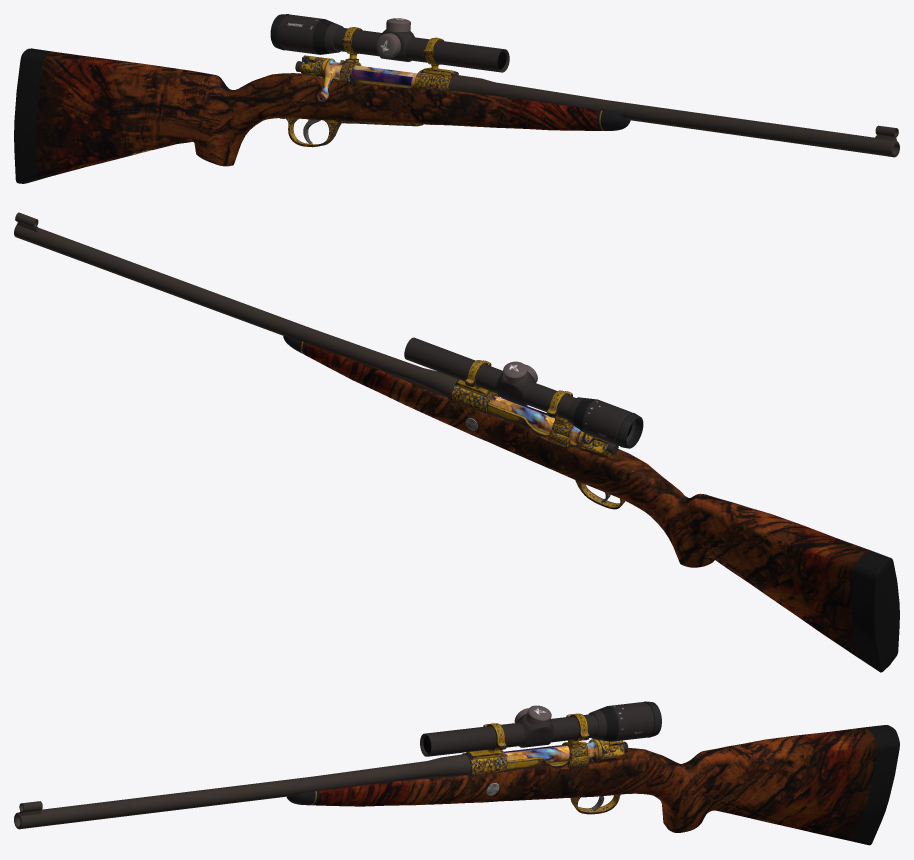
Rendered from rifle.glb.
The picture shows the model from 3 angles, top to bottom: view 1: azimuth 30°, elevation 25°; view 2: azimuth 210°, elevation 25°; view 3: azimuth 270°, elevation 25°; orthographic projection.
Visible parts, largest first — view 1: Wood_Low, Barrel_Low, Scope_Low, Midden2_Low, Midden1_Low, ScopeKnop_Low, TriggerHandle_Low; view 2: Wood_Low, Barrel_Low, Scope_Low, Midden2_Low, Midden1_Low; view 3: Wood_Low, Barrel_Low, Scope_Low, Midden2_Low, Midden1_Low, ScopeKnop_Low, TriggerHandle_Low.
Boxes of the visible parts, box(x1,y1,x2,y2) form: Wood_Low: box(14, 48, 630, 183); Barrel_Low: box(450, 75, 899, 157); Scope_Low: box(270, 14, 509, 72); Midden2_Low: box(333, 27, 458, 91); Midden1_Low: box(295, 55, 417, 101); ScopeKnop_Low: box(376, 18, 410, 57); TriggerHandle_Low: box(279, 117, 423, 147); Wood_Low: box(283, 336, 899, 672); Barrel_Low: box(14, 212, 489, 402); Scope_Low: box(404, 337, 643, 448); Midden2_Low: box(451, 360, 576, 447); Midden1_Low: box(489, 396, 618, 456); Wood_Low: box(286, 725, 899, 845); Barrel_Low: box(14, 754, 470, 829); Scope_Low: box(420, 701, 661, 756); Midden2_Low: box(462, 713, 589, 775); Midden1_Low: box(504, 739, 628, 763); ScopeKnop_Low: box(514, 705, 551, 727); TriggerHandle_Low: box(570, 794, 620, 814).
Size of the model in its own units: 0.1199 by 0.063 by 0.1983.
Materials: 2 (1 with a texture image).
